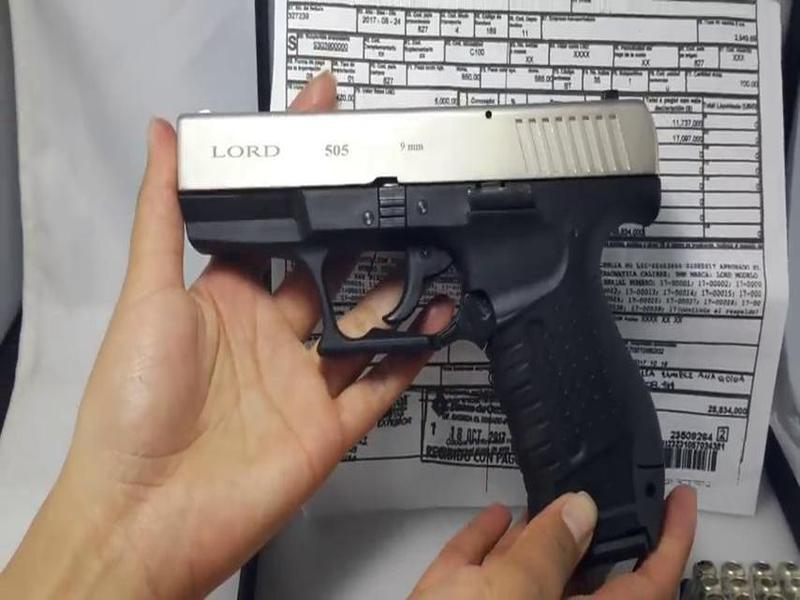Pistola: (158, 82, 689, 561)
